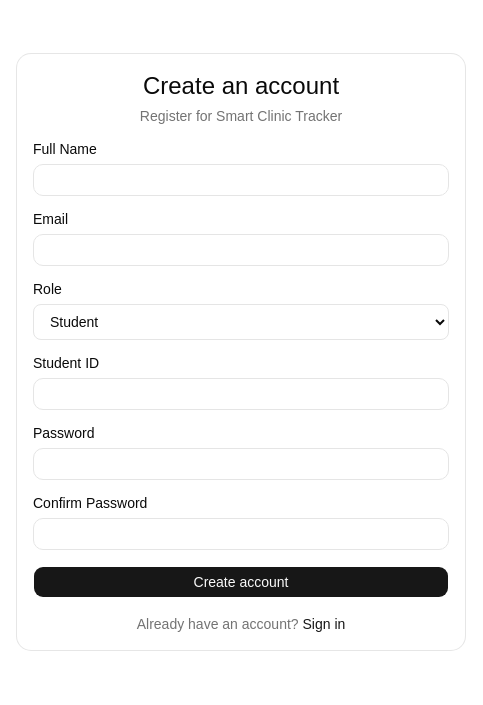
Scenario: Register › shows department field only when supervisor role is selected
This screenshot has width=483, height=705.
Expected: the field labelled "department" is not shown
Note: Switch to supervisor
Select "Supervisor" in the dropdown labelled "Role" at (241, 322), box x1=33 y1=304 x2=449 y2=340
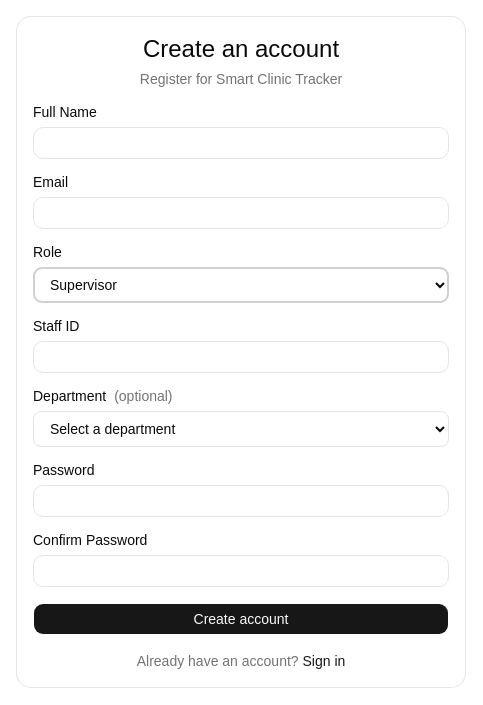
Now the dropdown labelled "Department (optional)" is shown, box x1=33 y1=411 x2=449 y2=447
Note: Switch back to student — department field disappears
Select "Student" in the dropdown labelled "Role" at (241, 285), box x1=33 y1=267 x2=449 y2=303
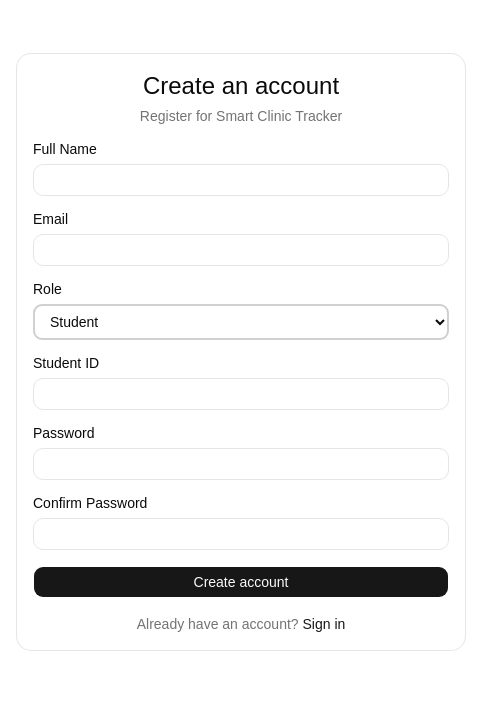
Now the label labelled "Department" is gone
